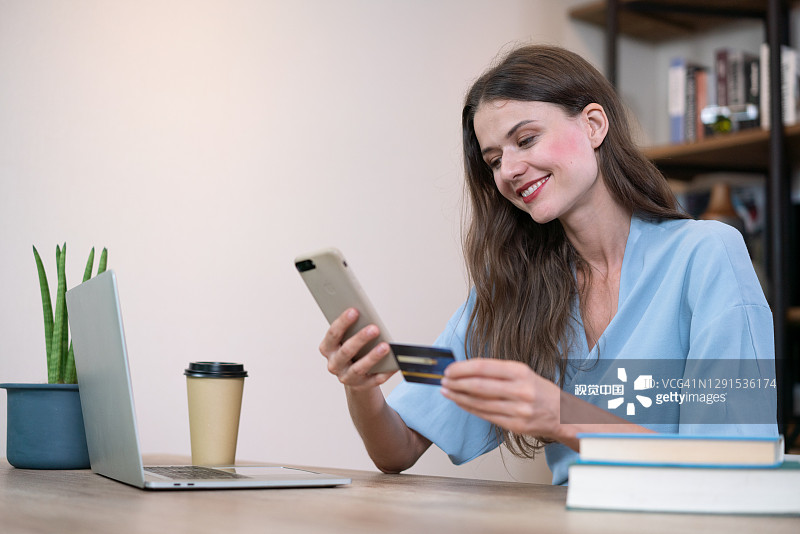no-phone: (415, 336, 582, 453)
reading: (289, 253, 400, 400)
